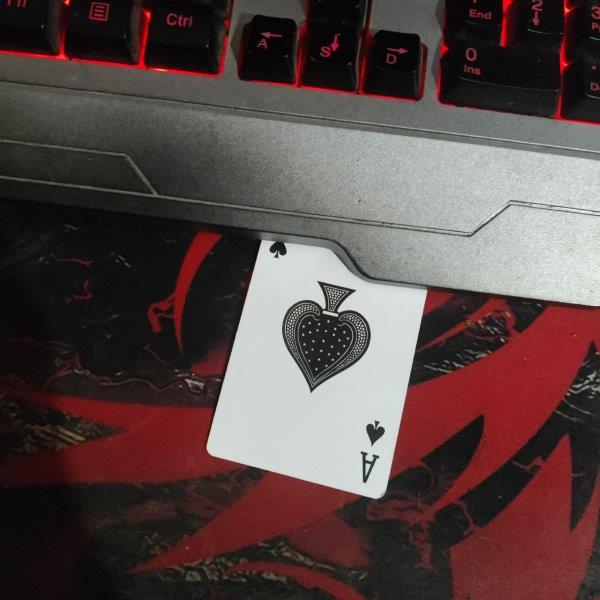Ace of Spades: (204, 240, 431, 501)
